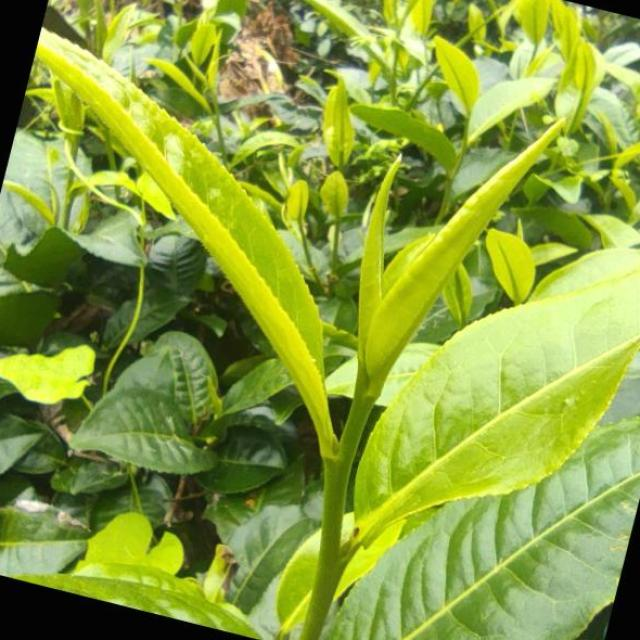Stem: (324, 456, 350, 511), (457, 147, 467, 164), (214, 120, 221, 135), (396, 29, 400, 39)
